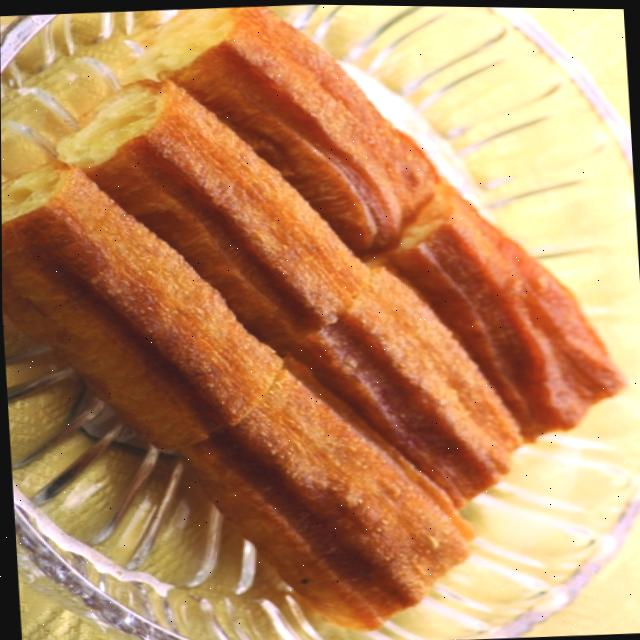炸货点心: (0, 0, 627, 603)
